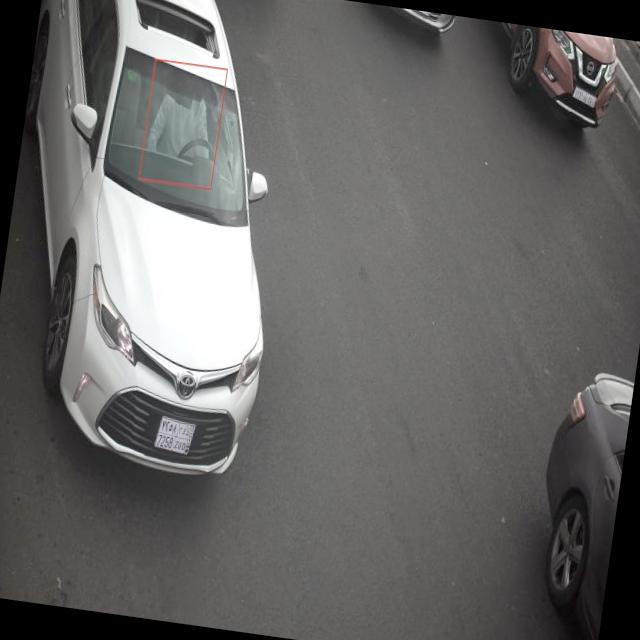person_without_seatbelt: (144, 65, 224, 184)
